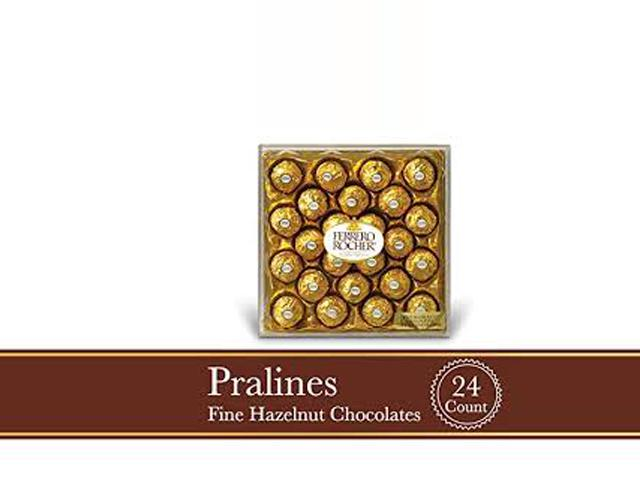chocolate: (249, 130, 462, 347)
